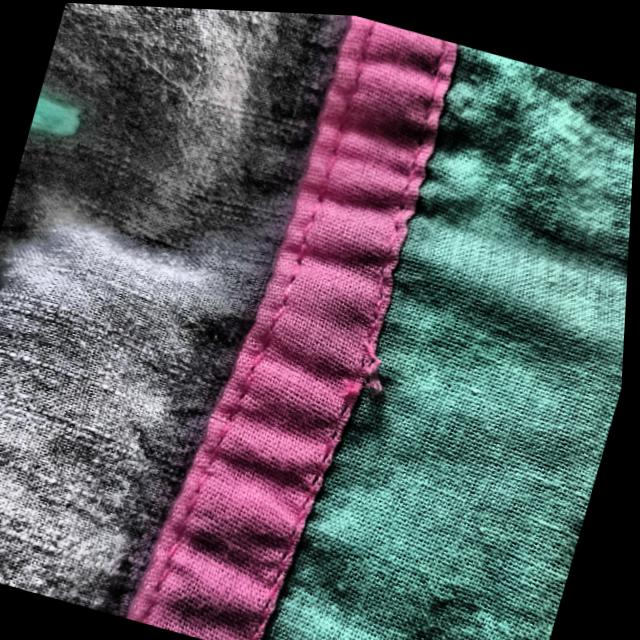Stitch: (285, 288, 438, 452)
